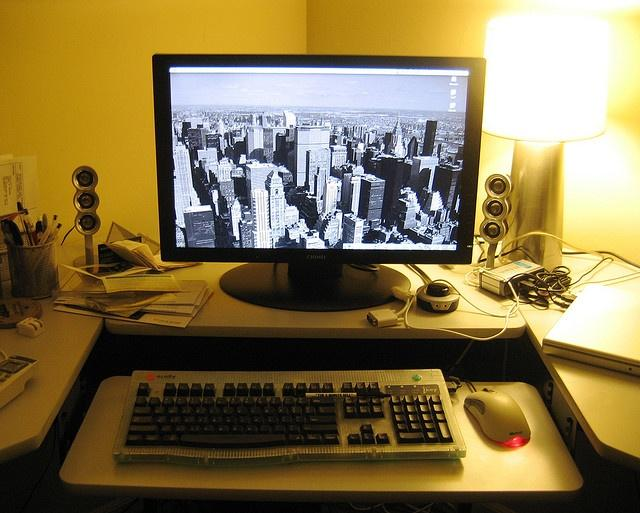AIO PC-Monitor-TV: (150, 50, 485, 264)
